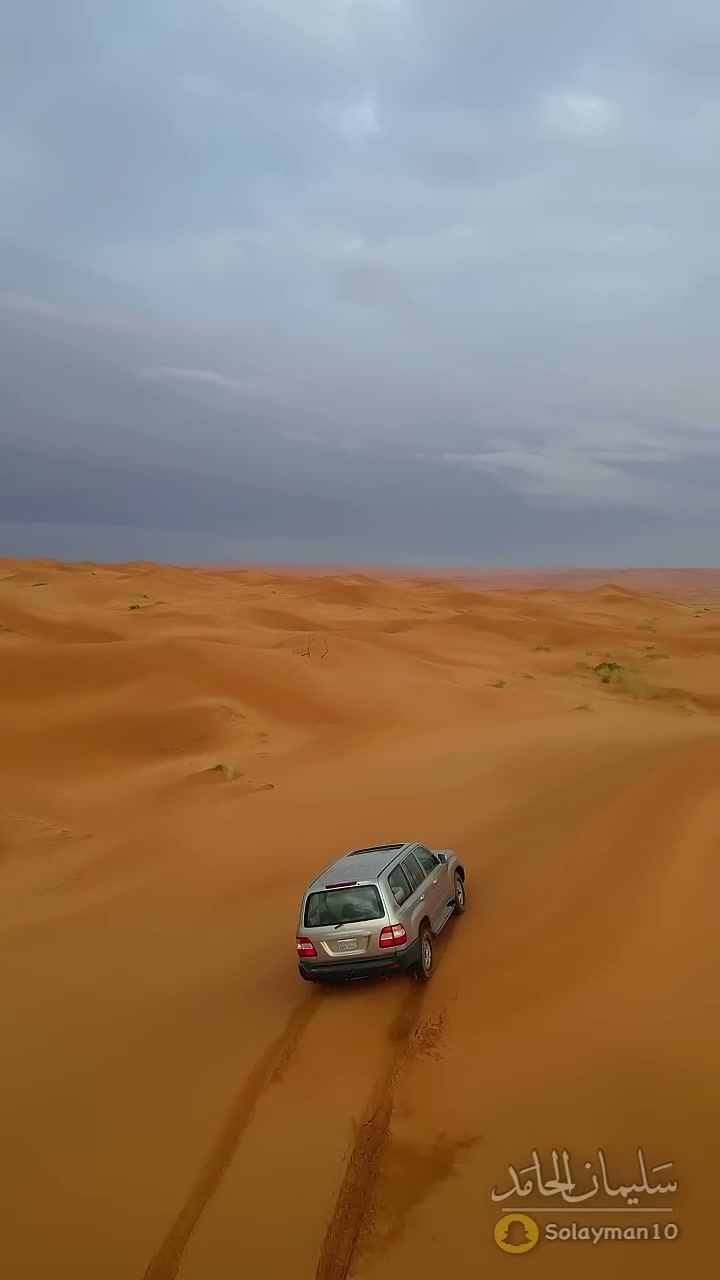vehicle_track: (143, 993, 317, 1279), (316, 980, 425, 1279), (316, 982, 425, 1279)
